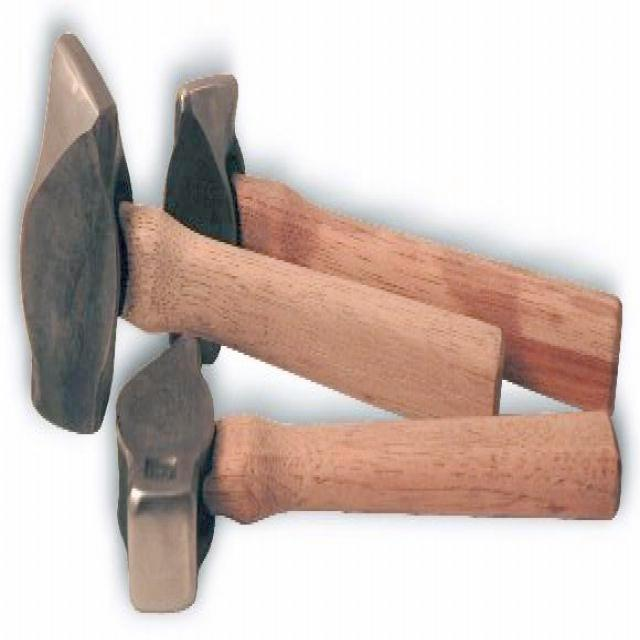hammer: (16, 31, 508, 447), (157, 68, 626, 426), (113, 330, 626, 620)
